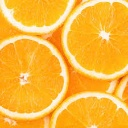orange: (60, 1, 128, 81)
